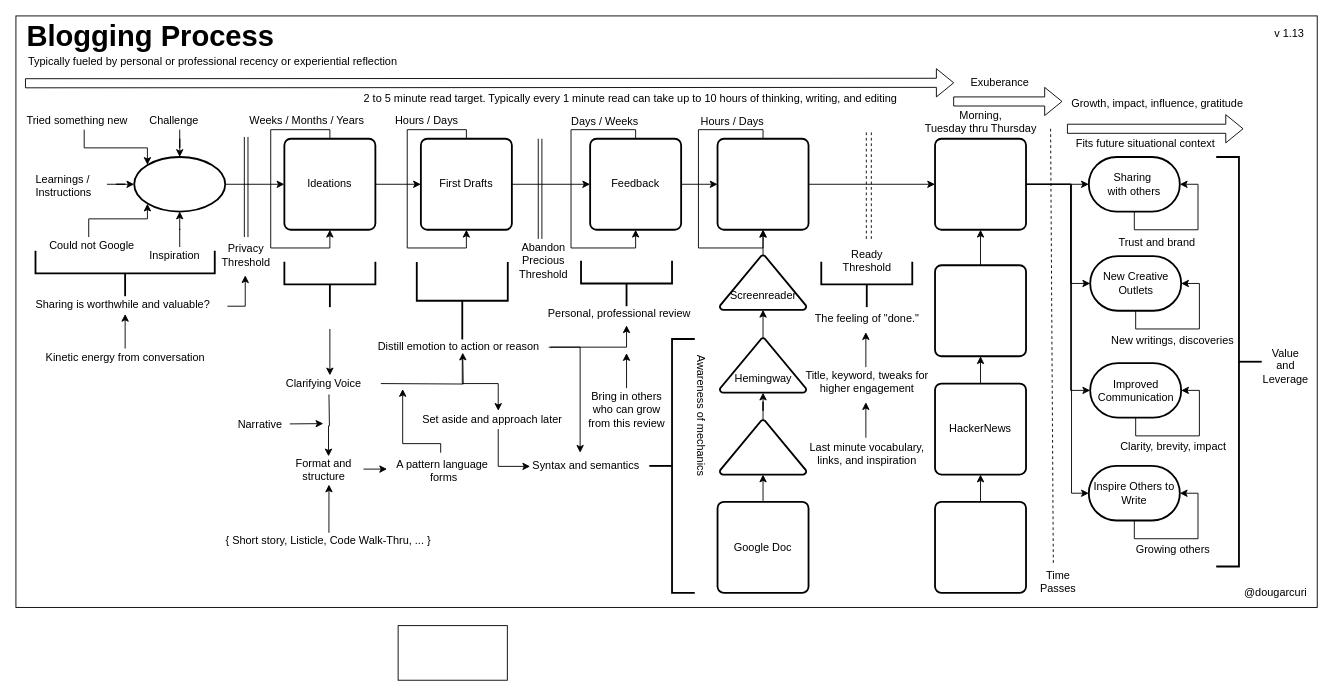
The diagram is 1333 pixels wide and 696 high, and some of its shapes have lost their labels. The shapes that lost their labels are listed below. From the top down, each one's box as (x1, y1, x2, y2) in pixels, then its label:
(133, 156, 226, 212): Thoughts, notes
(716, 137, 809, 230): Editing
(934, 137, 1026, 230): Publish
(283, 260, 376, 308): Audience, impact, statements, hooks
(934, 264, 1026, 357): Twitter / LinkedIn
(718, 419, 807, 475): Grammarly
(934, 500, 1026, 593): Reddit
